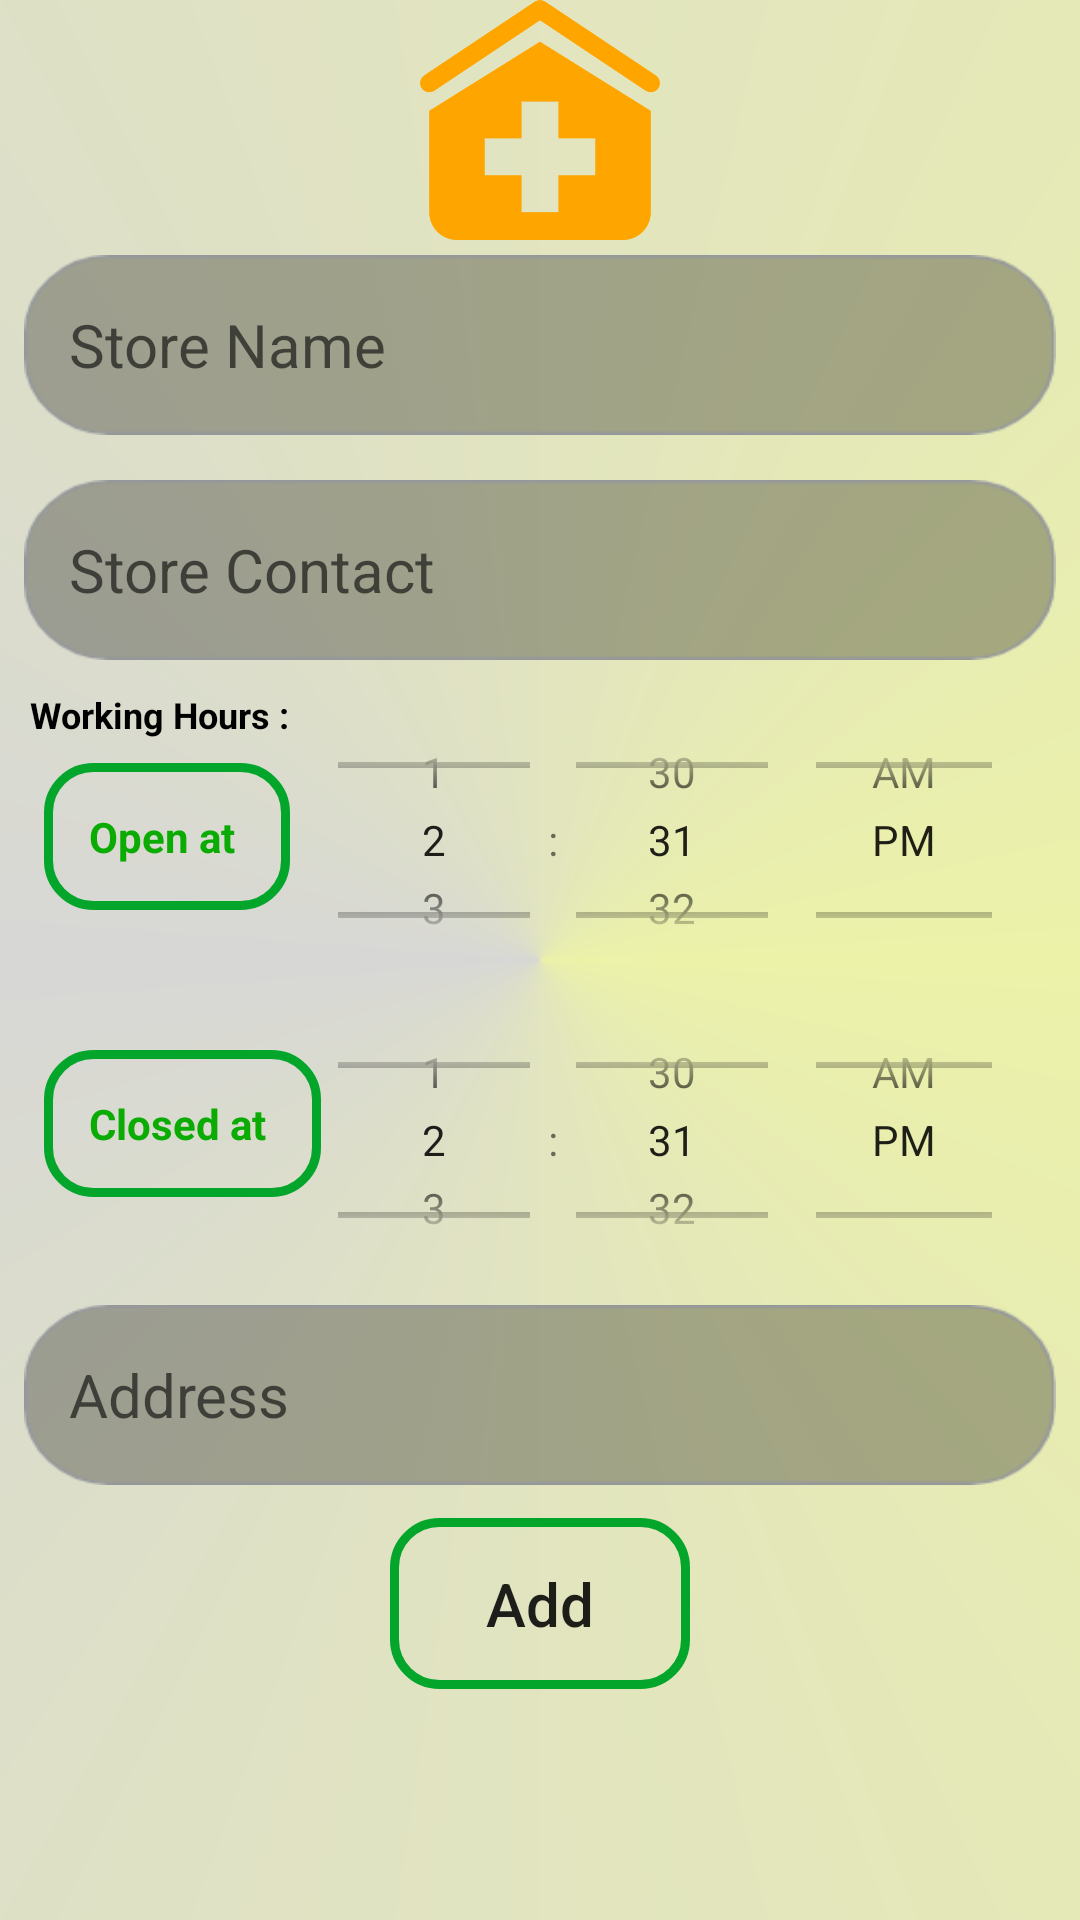

Locate icon controls on the screen. Image size 1080 × 1920, boxes as (x1, y1, x2, y2).
clinic: (420, 0, 660, 240)
